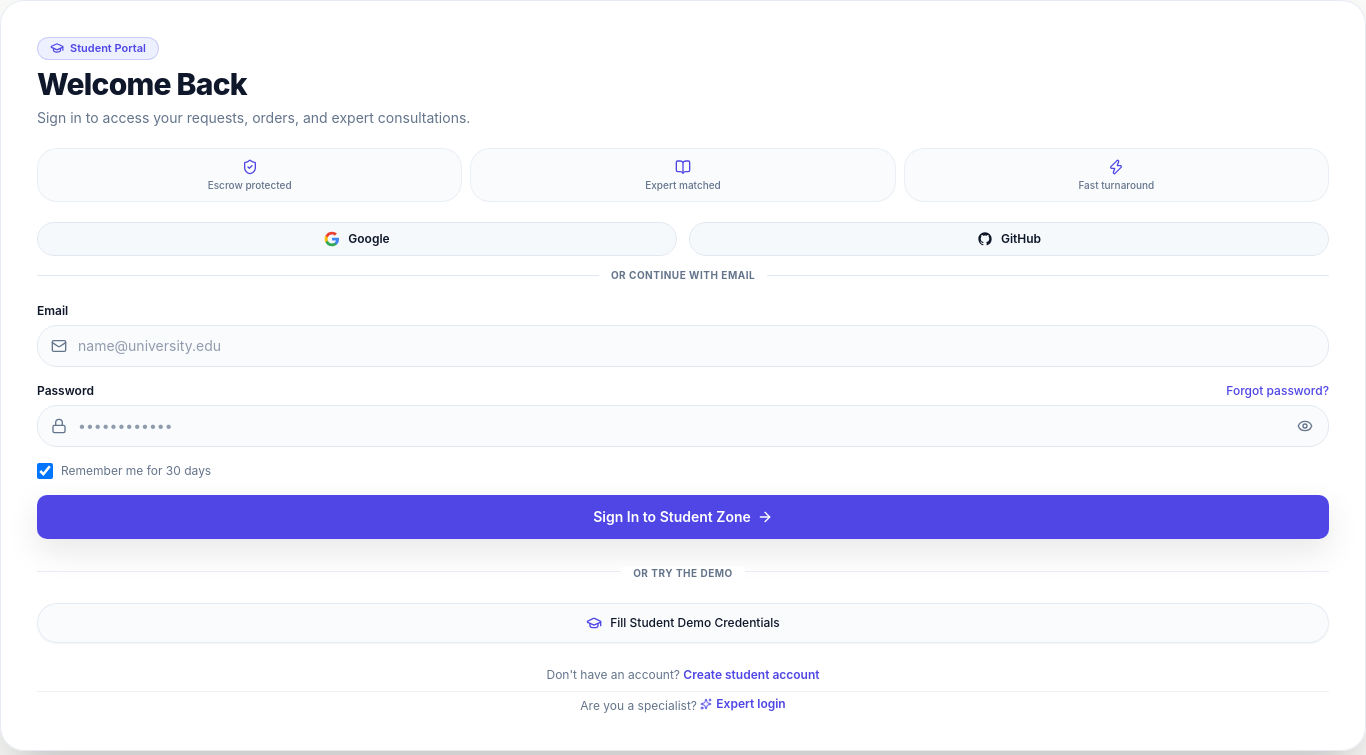
Test case: login page › shows mapped copy for invalid credentials and stays on the page
Type "student@demo.local" into the field labelled "Email" at (683, 346), box top-left (37, 325), bottom-right (1329, 367)
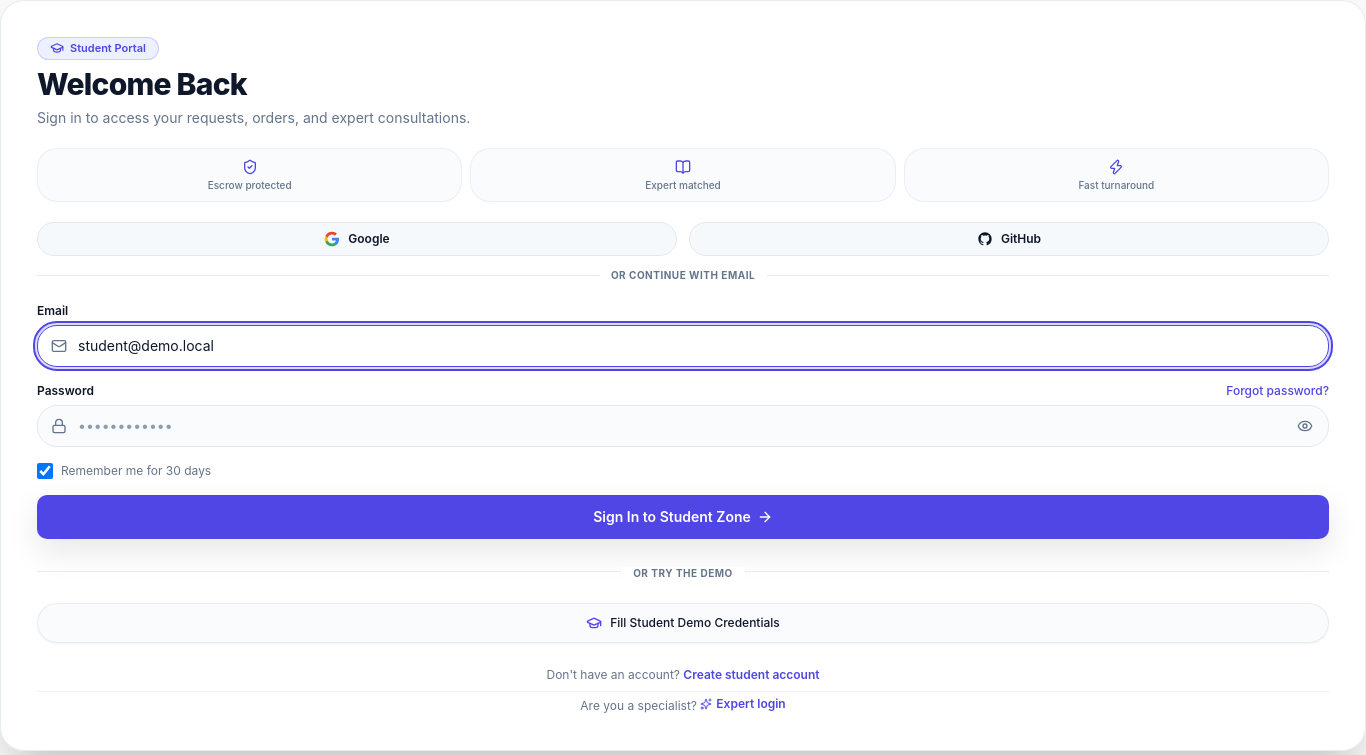
Type "wrong-password" into the password field labelled "Password" at (683, 426), box top-left (37, 405), bottom-right (1329, 447)
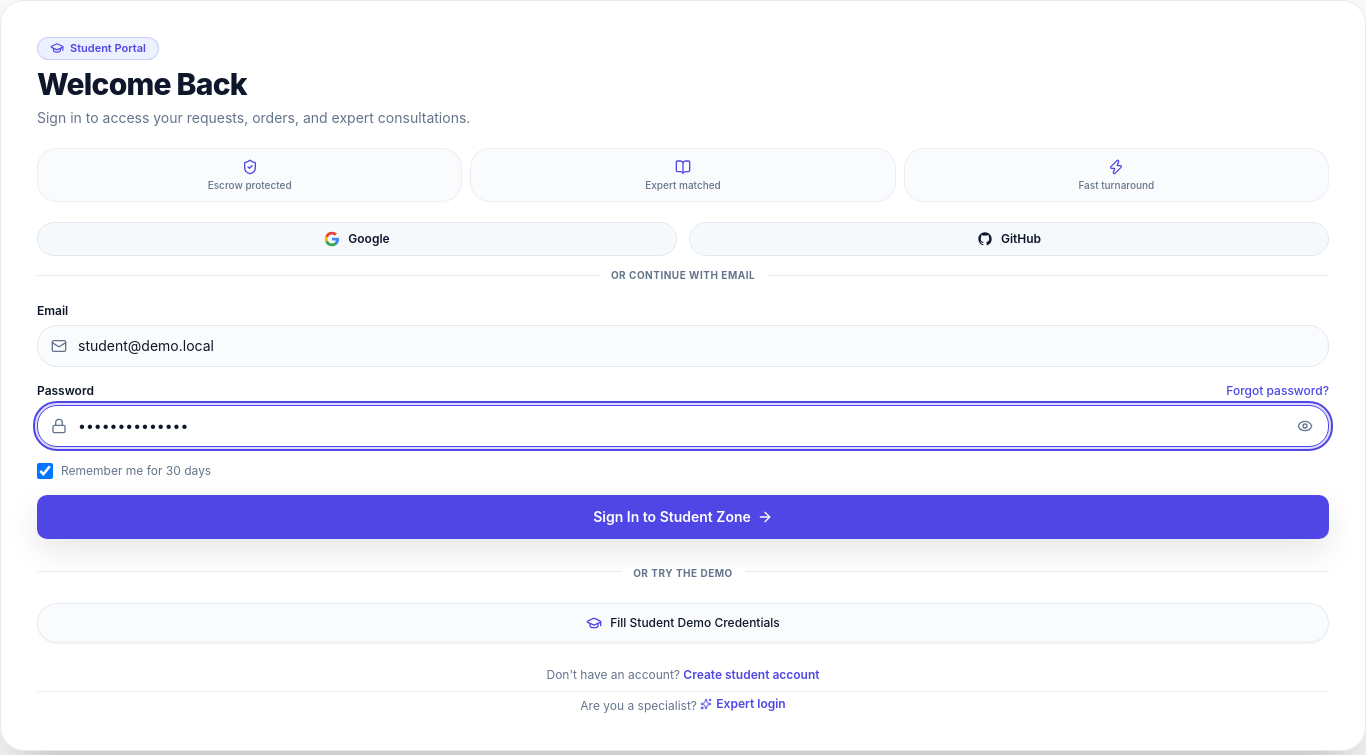
Click the button with test id "login-submit" at (683, 517), box top-left (37, 495), bottom-right (1329, 539)
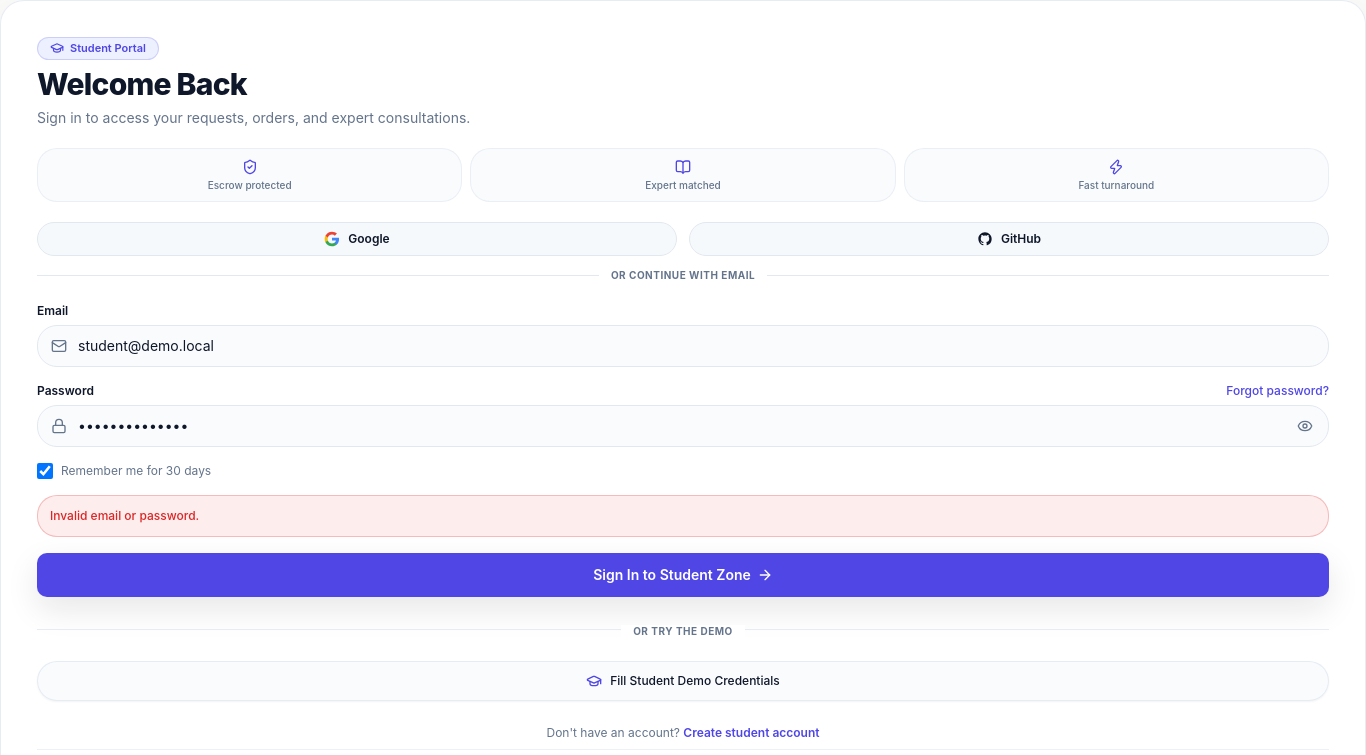
Check: the message with test id "login-error" reads "Invalid email or password.", box top-left (50, 508), bottom-right (199, 523)
